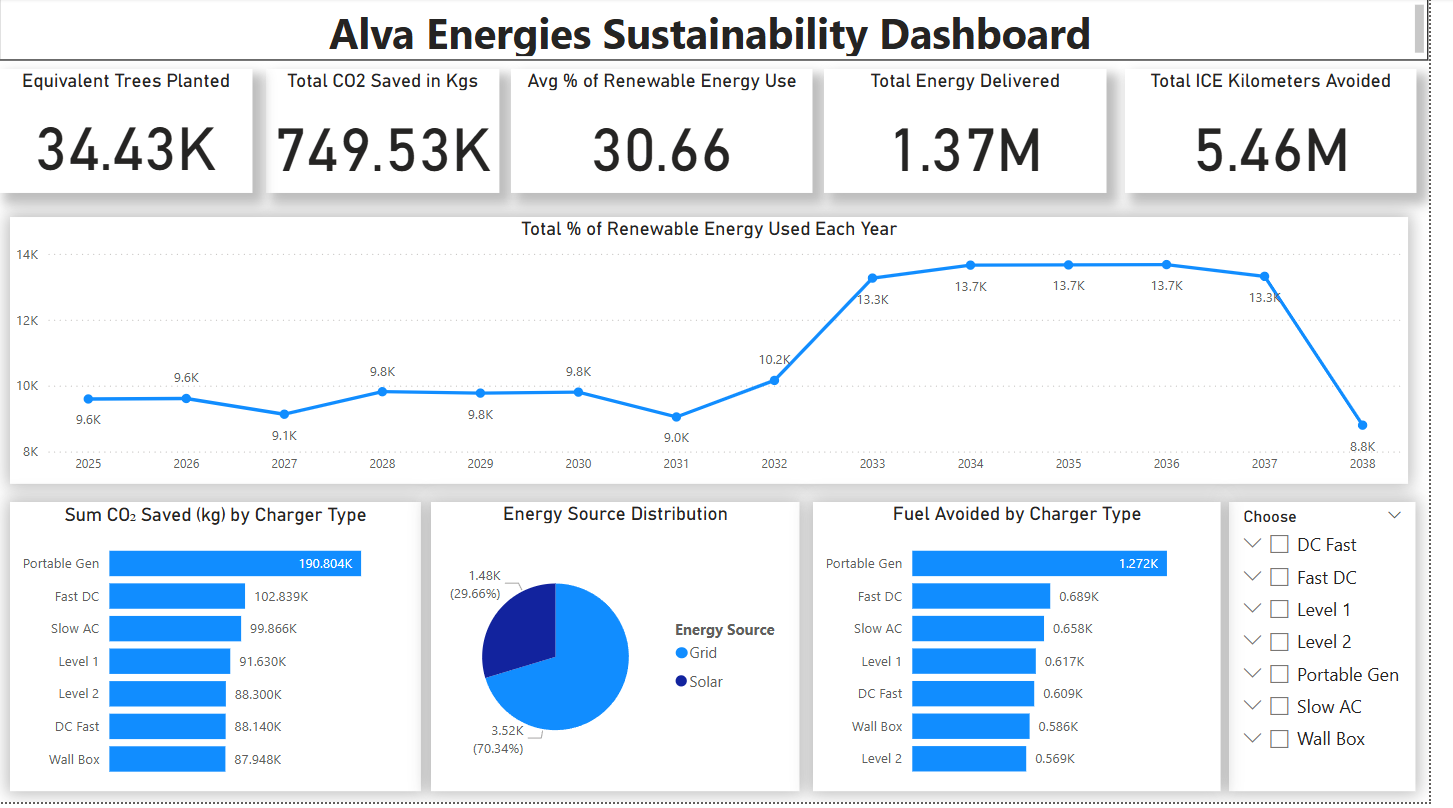

The dashboard page shown, as its layout file describes it:
{"tool":"powerbi","page":{"name":"Sus 1","canvas":[1280,720],"ordinal":0},"visuals":[{"type":"textbox","box":[0,285,227,150],"z":0},{"type":"card","title":"Total CO2 Saved in Kgs","fields":{"Values":["Sum(cleaned_output(from hadoop).CO₂ Saved (kg))"]},"box":[239.1,63.6,208.7,111],"z":1000},{"type":"card","title":"Avg % of Renewable Energy Use","fields":{"Values":["Avg(cleaned_output(from hadoop).% Renewable Energy Used)"]},"box":[458.5,63.6,270.4,111],"z":2000},{"type":"textbox","box":[0,0,1279.7,56.4],"z":3000},{"type":"card","title":"Total Energy Delivered","fields":{"Values":["Sum(cleaned_output(from hadoop).Energy Delivered (kWh))"]},"box":[738.8,63.6,252.5,111],"z":4000},{"type":"lineChart","title":"Total % of Renewable Energy Used Each Year","fields":{"Category":["cleaned_output(from hadoop).Date.Variation.Date Hierarchy.Year"],"Y":["Sum(cleaned_output(from hadoop).% Renewable Energy Used)"]},"box":[9.9,196.1,1251.9,239.1],"z":5000},{"type":"barChart","title":"Sum CO₂ Saved (kg) by Charger Type","fields":{"Category":["cleaned_output(from hadoop).Charger Type"],"Y":["Sum(cleaned_output(from hadoop).CO₂ Saved (kg))"]},"box":[9.9,451.3,368.1,258.8],"z":6000},{"type":"slicer","fields":{"Values":["cleaned_output(from hadoop).Charger Type","cleaned_output(from hadoop).Energy Source"]},"box":[1101.5,451.3,167.5,258.8],"z":7000},{"type":"card","title":"Equivalent Trees Planted","fields":{"Values":["Sum(cleaned_output(from hadoop).Equivalent Trees Planted)"]},"box":[0,63.6,227.5,111],"z":8000},{"type":"pieChart","title":"Energy Source Distribution","fields":{"Category":["cleaned_output(from hadoop).Energy Source"],"Y":["CountNonNull(cleaned_output(from hadoop).Energy Source)"]},"box":[386.9,451.3,330.4,258.8],"z":9000},{"type":"card","title":"Total ICE Kilometers Avoided","fields":{"Values":["Sum(cleaned_output(from hadoop).ICE Kilometers Avoided)"]},"box":[1008.4,63.6,260.6,111],"z":10000},{"type":"barChart","title":"Fuel Avoided by Charger Type","fields":{"Category":["cleaned_output(from hadoop).Charger Type"],"Y":["CountNonNull(cleaned_output(from hadoop).Fuel Avoided (liters))"]},"box":[729,451.3,365.4,258.8],"z":11000}]}

Visuals, with their boxes in screenshot pixels (x1, y1, x2, y2), scaled from the page's 1280x720 canvas onto the 1453x808 screenshot:
textbox: {"x1": 0, "y1": 320, "x2": 258, "y2": 488}
"Total CO2 Saved in Kgs" card: {"x1": 271, "y1": 71, "x2": 508, "y2": 196}
"Avg % of Renewable Energy Use" card: {"x1": 520, "y1": 71, "x2": 827, "y2": 196}
textbox: {"x1": 0, "y1": 0, "x2": 1452, "y2": 63}
"Total Energy Delivered" card: {"x1": 839, "y1": 71, "x2": 1125, "y2": 196}
"Total % of Renewable Energy Used Each Year" lineChart: {"x1": 11, "y1": 220, "x2": 1432, "y2": 488}
"Sum CO₂ Saved (kg) by Charger Type" barChart: {"x1": 11, "y1": 506, "x2": 429, "y2": 797}
slicer - cleaned_output(from hadoop).Charger Type x cleaned_output(from hadoop).Energy Source: {"x1": 1250, "y1": 506, "x2": 1441, "y2": 797}
"Equivalent Trees Planted" card: {"x1": 0, "y1": 71, "x2": 258, "y2": 196}
"Energy Source Distribution" pieChart: {"x1": 439, "y1": 506, "x2": 814, "y2": 797}
"Total ICE Kilometers Avoided" card: {"x1": 1145, "y1": 71, "x2": 1441, "y2": 196}
"Fuel Avoided by Charger Type" barChart: {"x1": 828, "y1": 506, "x2": 1242, "y2": 797}
